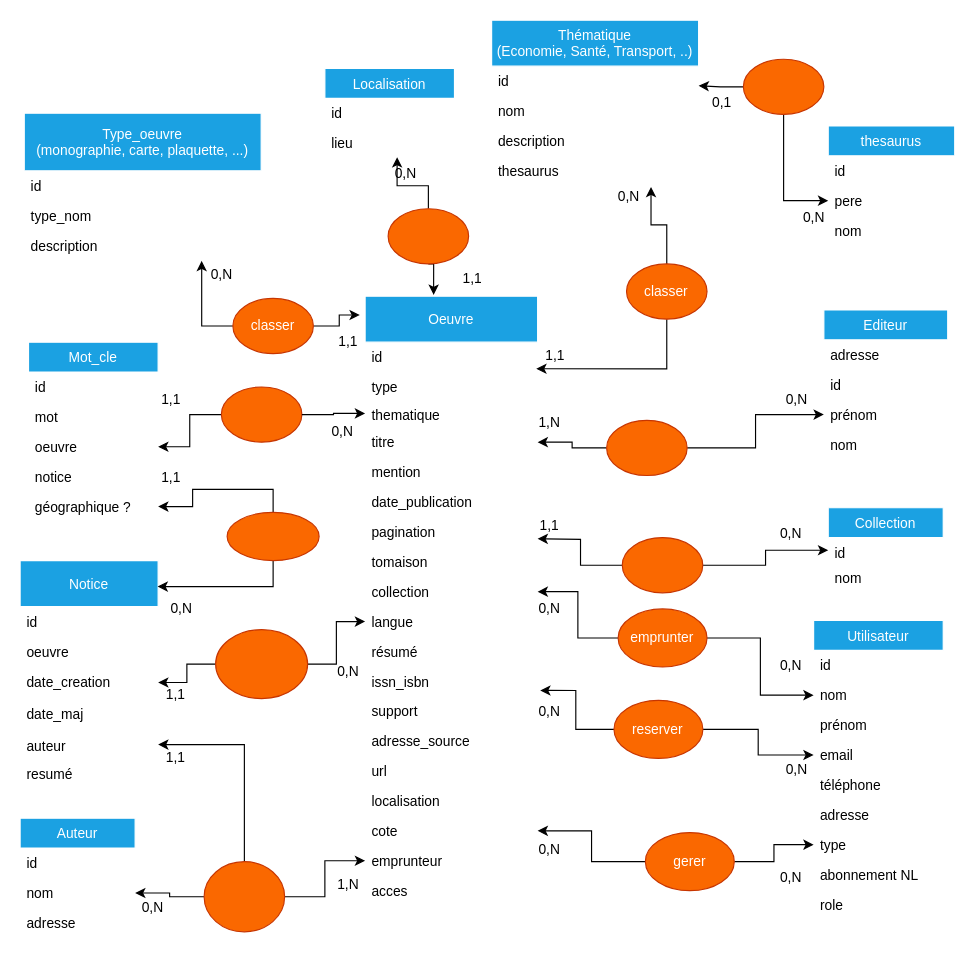
The diagram is 975 pixels wide and 961 high, and some of its shapes have lost their labels. Each missing label, with the centre of its shape:
appartenir: (x=662, y=564)
Creer / Modifier: (x=261, y=663)
ecrire: (x=244, y=896)
editer: (x=646, y=447)
localiser: (x=428, y=236)
rechercher: (x=261, y=414)
reférence: (x=783, y=86)
référencer: (x=272, y=536)
